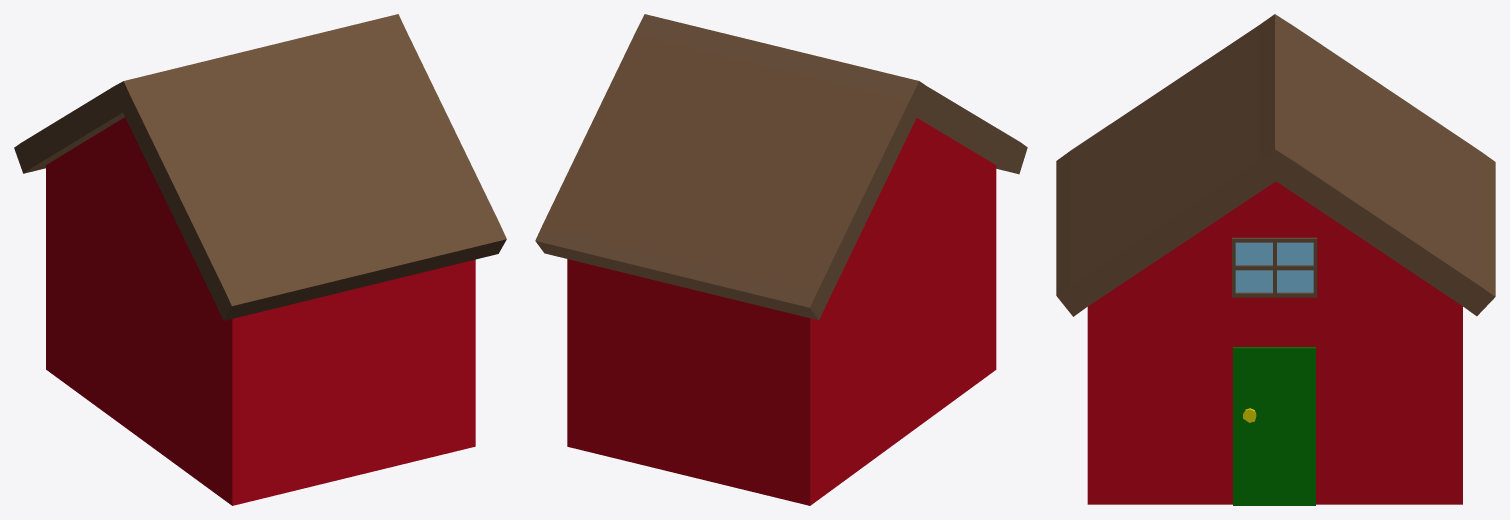
Rendered from house1.fbx.
The picture shows the model from 3 angles, left to right: view 1: azimuth 30°, elevation 25°; view 2: azimuth 150°, elevation 25°; view 3: azimuth 270°, elevation 25°; orthographic projection.
Parts seen in each view (by area): view 1: Plane; view 2: Plane; view 3: Plane.
Part boxes in pixels (x1,y1,x2,y2): Plane: [14, 14, 506, 505]; Plane: [535, 14, 1027, 505]; Plane: [1056, 14, 1495, 505].
Size of the model in its own units: 363 by 455 by 499.
